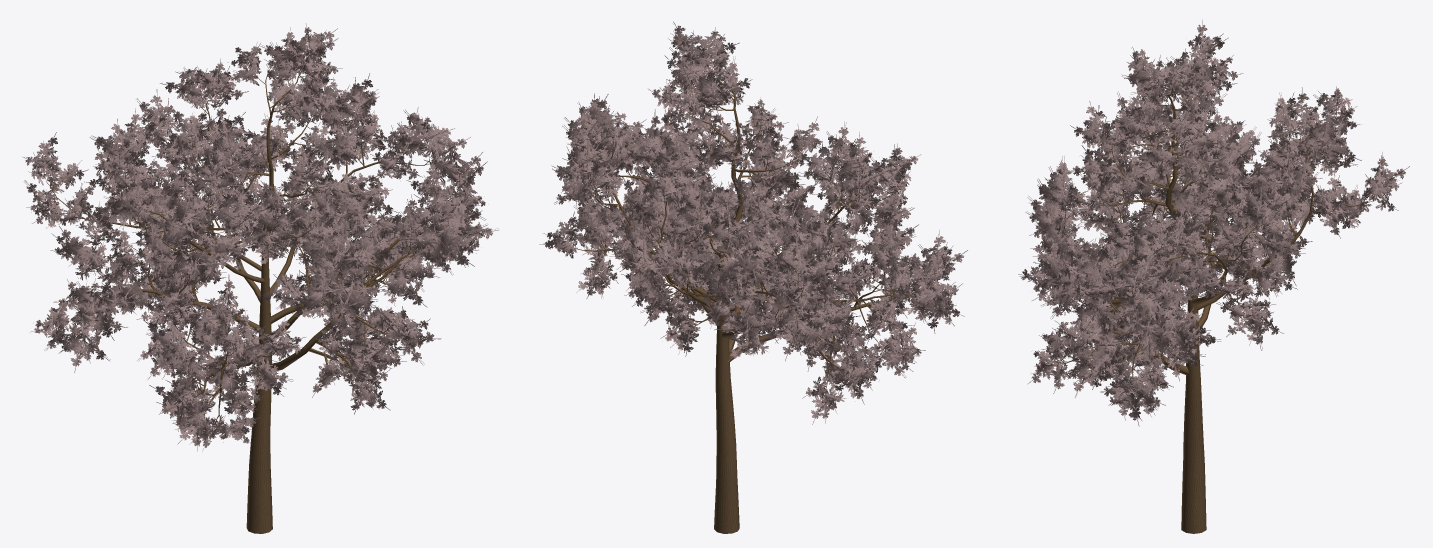
Rendered from blossom-v3.glb.
The picture shows the model from 3 angles, left to right: view 1: azimuth 30°, elevation 25°; view 2: azimuth 150°, elevation 25°; view 3: azimuth 270°, elevation 25°; orthographic projection.
Visible parts, largest first — view 1: leaves, branches; view 2: leaves, branches; view 3: leaves, branches.
Boxes of the visible parts, bbox=[...] form: leaves: bbox=[23, 23, 498, 451]; branches: bbox=[43, 48, 460, 533]; leaves: bbox=[539, 21, 967, 424]; branches: bbox=[565, 54, 938, 533]; leaves: bbox=[1018, 20, 1409, 426]; branches: bbox=[1041, 54, 1377, 533].
Bounding box in the file's own units: 4.03 × 4.6 × 3.41.
Materials: 2 (2 with a texture image).
